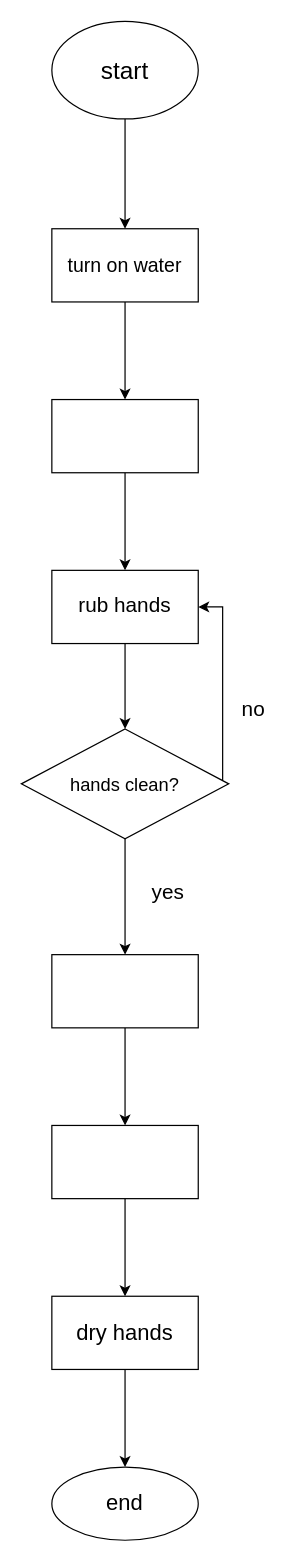
The diagram is 299 pixels wide and 1562 high, and some of its shapes have lost their labels. Here are the shapes that lost their labels. From the top down, the centre of each, then its label:
(x=124, y=435): rub sop on hand
(x=124, y=990): clean soap
(x=124, y=1161): turn off water
